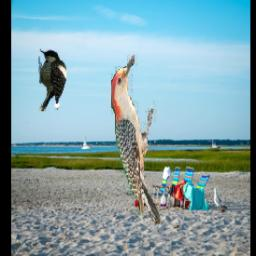Woodpecker: (112, 55, 162, 225), (38, 49, 66, 111)
